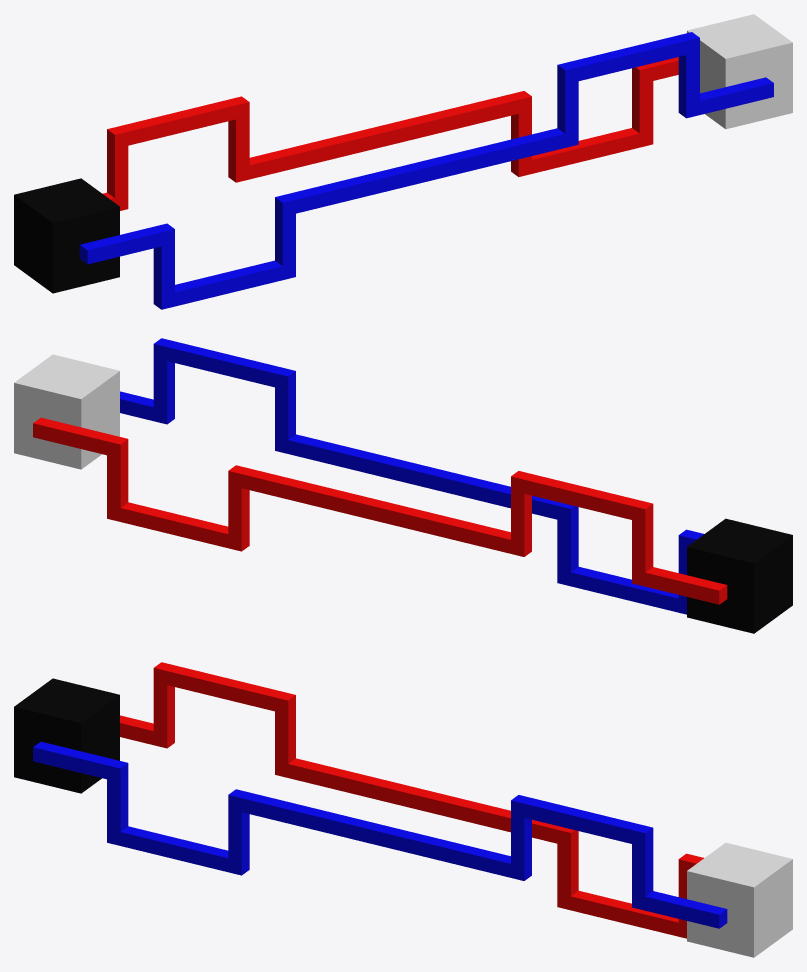
File: wires.dae
3 renders of one model, top to bottom at view 1: azimuth 30°, elevation 25°; view 2: azimuth 150°, elevation 25°; view 3: azimuth 330°, elevation 25°, orthographic.
Parts seen in each view (by area): view 1: BlueWire, RedWire, BlackBlock, WhiteBlock; view 2: RedWire, BlueWire, BlackBlock, WhiteBlock; view 3: BlueWire, RedWire, WhiteBlock, BlackBlock.
Part boxes in pixels (x1,y1,x2,y2): BlueWire: [79, 32, 773, 309]; RedWire: [102, 57, 678, 210]; BlackBlock: [14, 178, 119, 293]; WhiteBlock: [687, 14, 792, 129]; RedWire: [33, 417, 727, 604]; BlueWire: [120, 338, 703, 614]; BlackBlock: [687, 518, 792, 633]; WhiteBlock: [14, 354, 119, 469]; BlueWire: [33, 741, 727, 928]; RedWire: [120, 662, 703, 938]; WhiteBlock: [687, 842, 792, 957]; BlackBlock: [14, 678, 119, 793].
Bounding box in the file's own units: 11 × 1.4 × 2.
